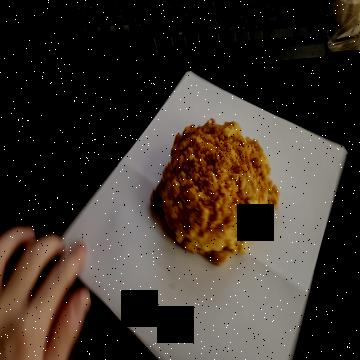soboru_bread: (144, 120, 278, 266)
